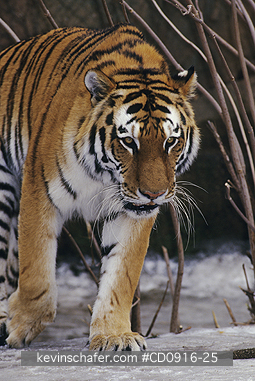Tigre: (13, 21, 203, 340)
